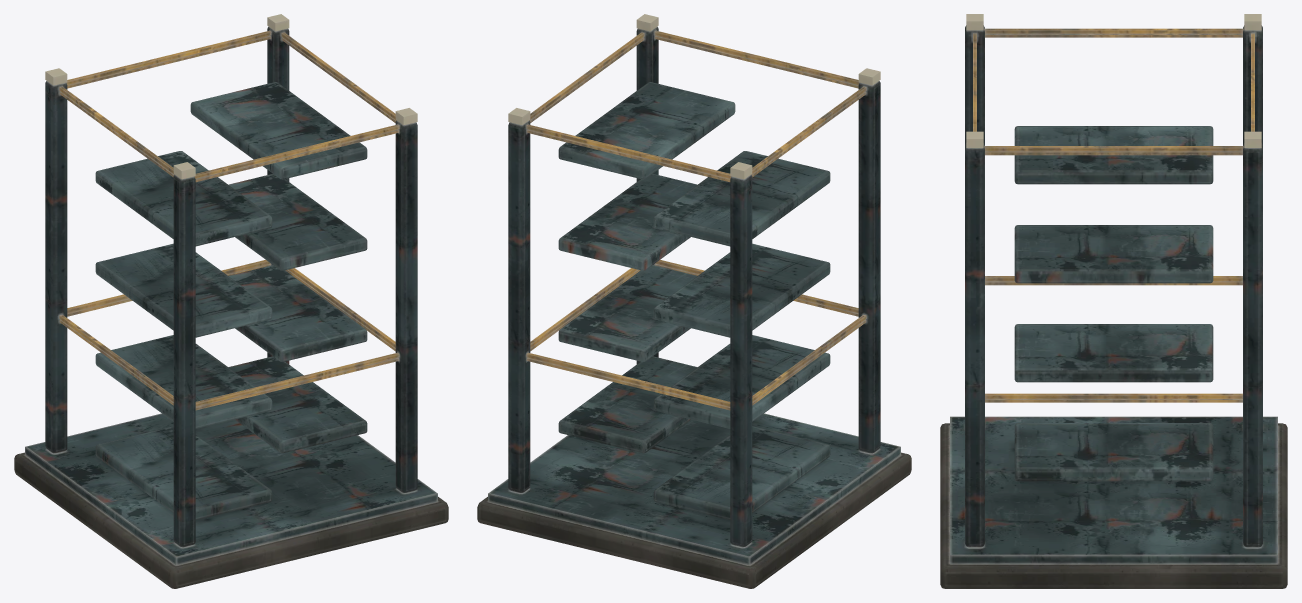
The model's file is staircase.glb.
The picture shows the model from 3 angles, left to right: view 1: azimuth 30°, elevation 25°; view 2: azimuth 150°, elevation 25°; view 3: azimuth 270°, elevation 25°; orthographic projection. The views are drawn at different scales.
Visible parts, largest first — view 1: te_staircase; view 2: te_staircase; view 3: te_staircase.
Part boxes in pixels (x1,y1,x2,y2): te_staircase: (14, 14, 448, 588); te_staircase: (477, 14, 911, 588); te_staircase: (940, 14, 1287, 588).
Bounding box in the file's own units: 0.7 × 0.98 × 0.7.
1 material, 1 textured.
